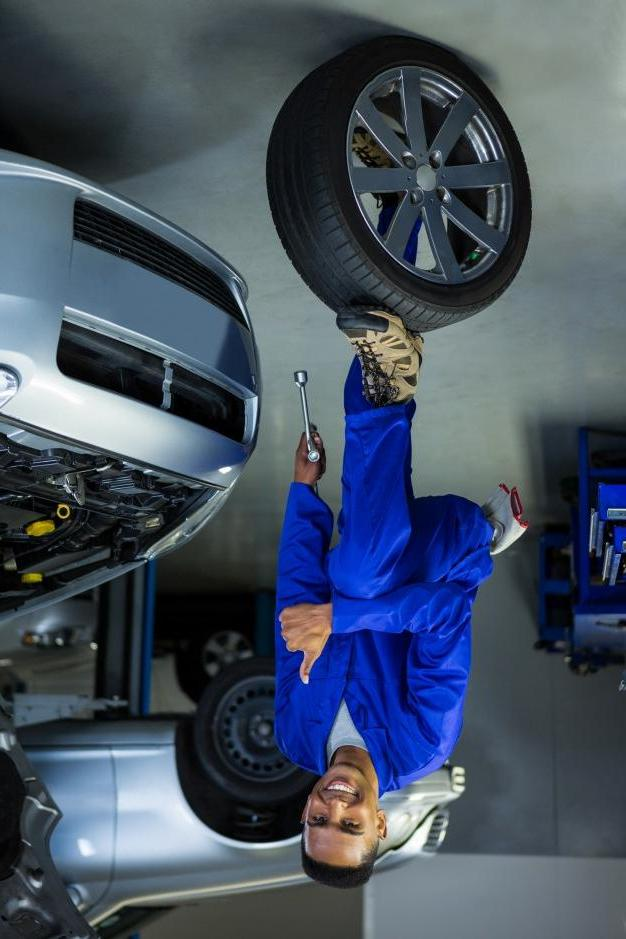thumbsdown: (278, 603, 315, 685)
